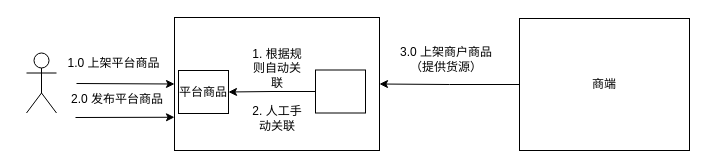
The diagram is 707 pixels wide and 168 high, and some of its shapes have lost their labels. Here are the shapes that lost their labels. From the top down, the box of each, then its label:
(26, 52, 56, 113): 平台运营
(314, 69, 366, 113): 商户商品
